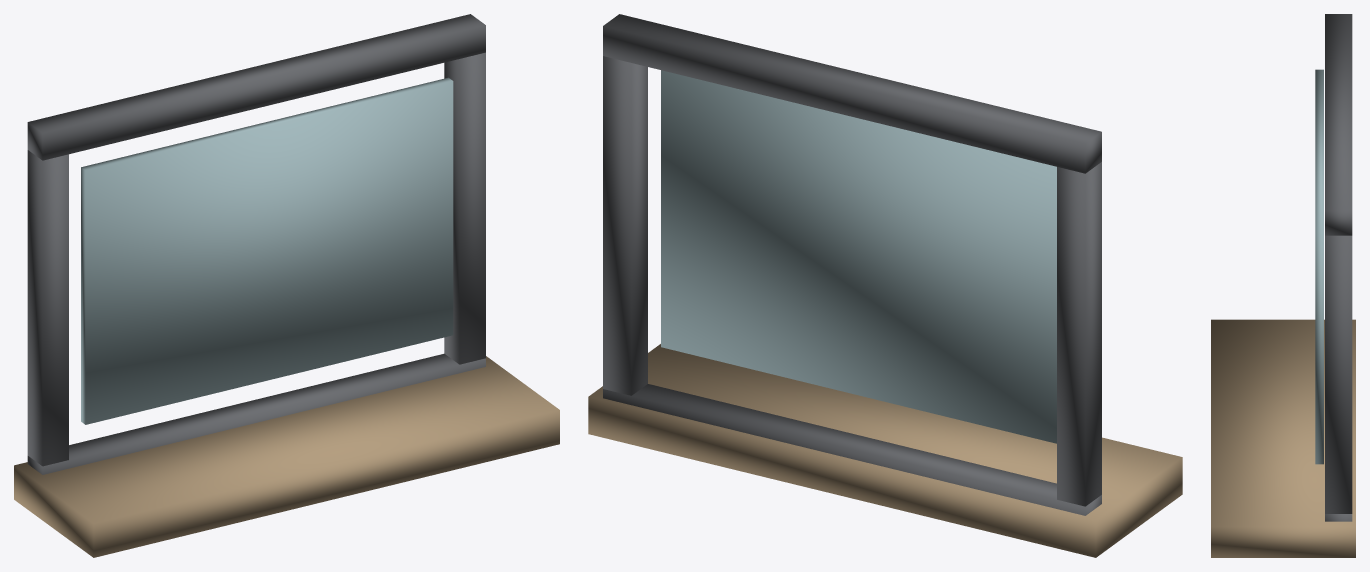
The model's file is service_window.glb.
The picture shows the model from 3 angles, left to right: view 1: azimuth 30°, elevation 25°; view 2: azimuth 150°, elevation 25°; view 3: azimuth 270°, elevation 25°; orthographic projection. The views are drawn at different scales.
Visible parts, largest first — view 1: world; view 2: world; view 3: world.
Part boxes in pixels (box(x1,y1,x2,y2)): world: box(14, 14, 559, 557); world: box(588, 14, 1182, 557); world: box(1211, 14, 1355, 557).
Bounding box in the file's own units: 1.42 × 1.1 × 0.42.
